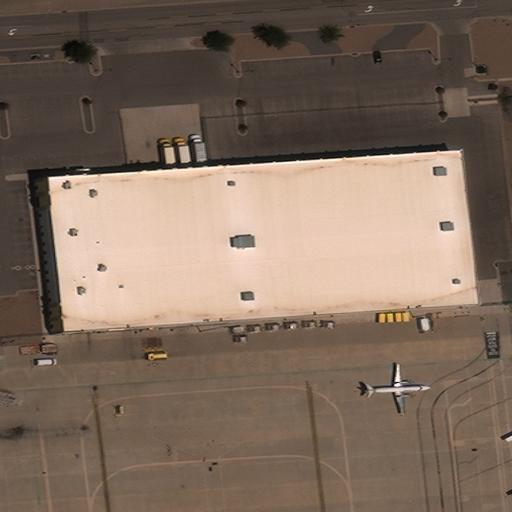Medium Civil Transport: (361, 364, 432, 413)
